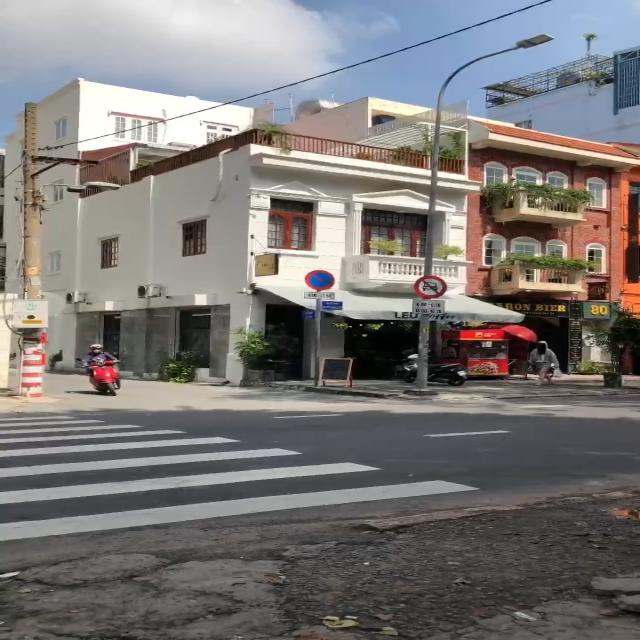Bien bao cam do xe: (302, 268, 338, 292)
Bien bao cam xe oto: (412, 274, 450, 300)
